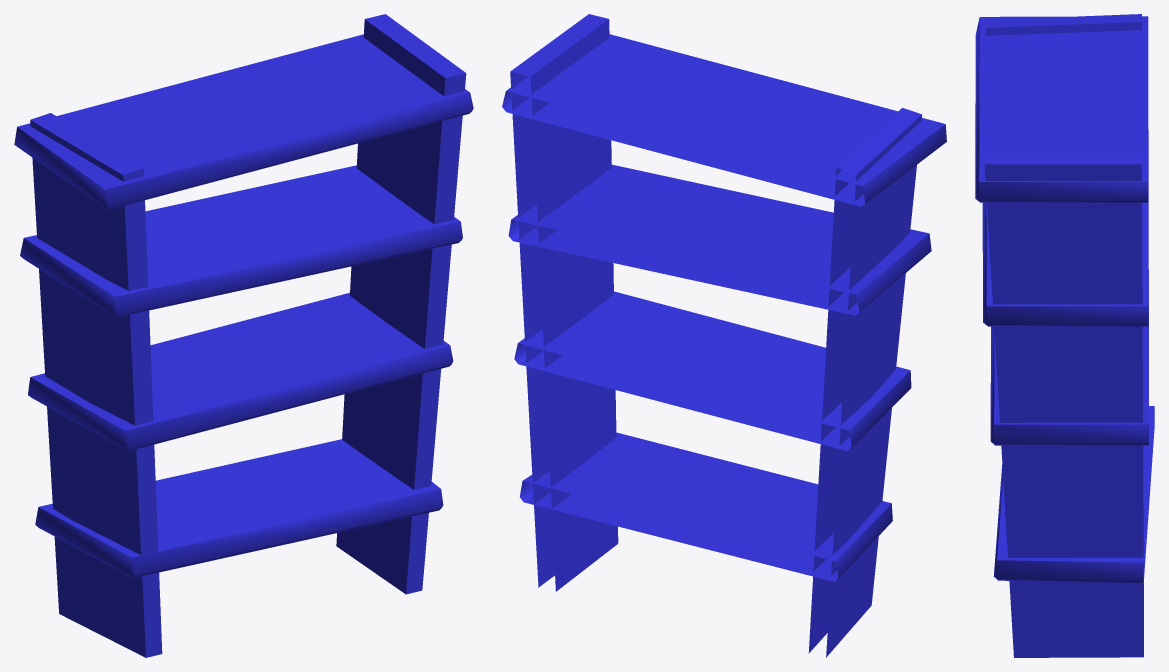
File: Shelving.FBX
3 renders of one model, left to right at view 1: azimuth 30°, elevation 25°; view 2: azimuth 150°, elevation 25°; view 3: azimuth 270°, elevation 25°, orthographic. The views are drawn at different scales.
Parts seen in each view (by area): view 1: shelving; view 2: shelving; view 3: shelving.
Boxes of the visible parts, x1,y1,x2,y2 form: shelving: (14, 14, 473, 657); shelving: (502, 14, 946, 657); shelving: (975, 14, 1154, 657).
Size of the model in its own units: 5.21 by 6.96 by 2.23.
